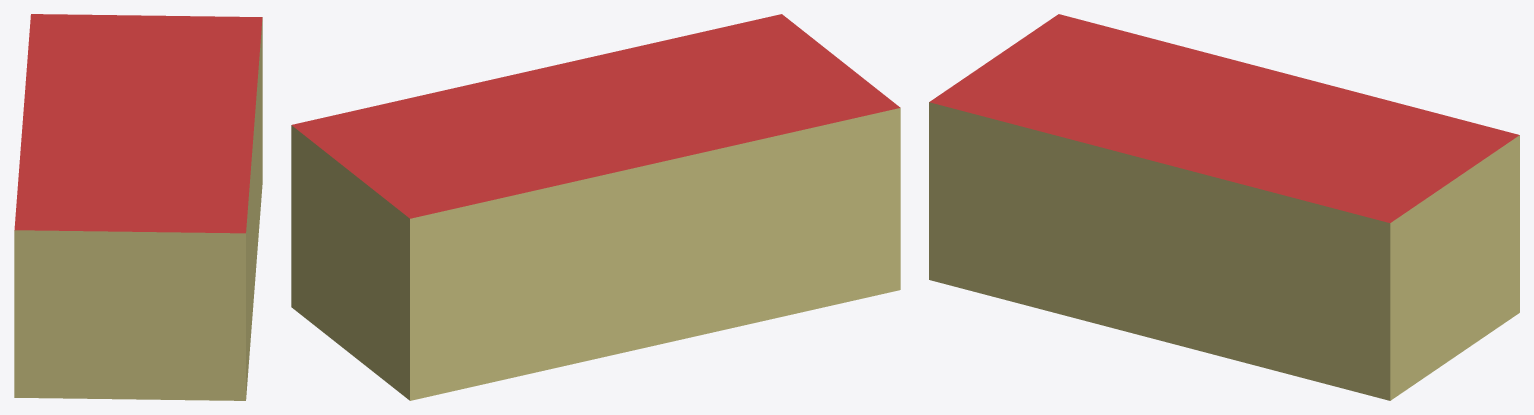
3 views of the same model, side by side, from view 1: azimuth 30°, elevation 25°; view 2: azimuth 150°, elevation 25°; view 3: azimuth 270°, elevation 25° (orthographic). The views are drawn at different scales.
Bounding box in the file's own units: 14.77 × 17.63 × 5.85.
